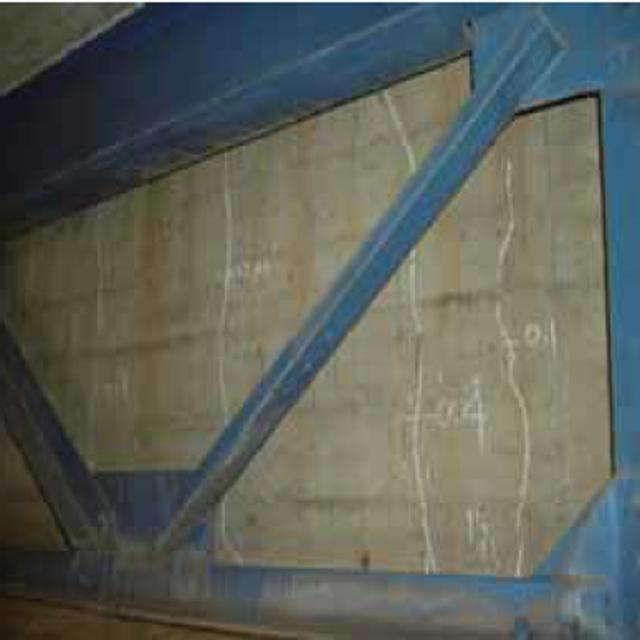crack: (493, 160, 550, 574), (399, 261, 447, 570), (214, 150, 242, 436)
